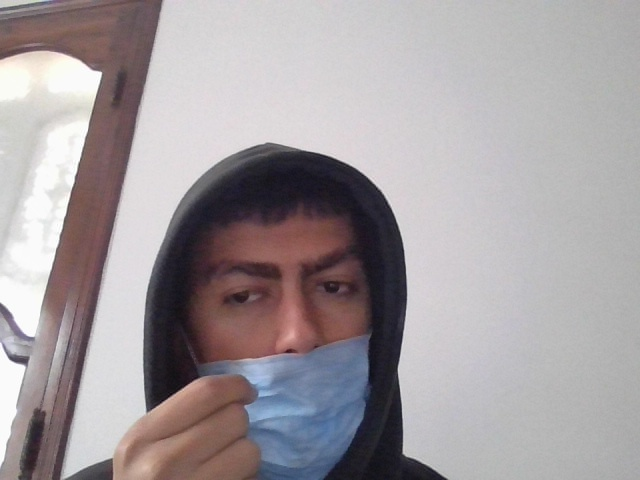mask_weared_incorrect: (190, 173, 379, 479)
